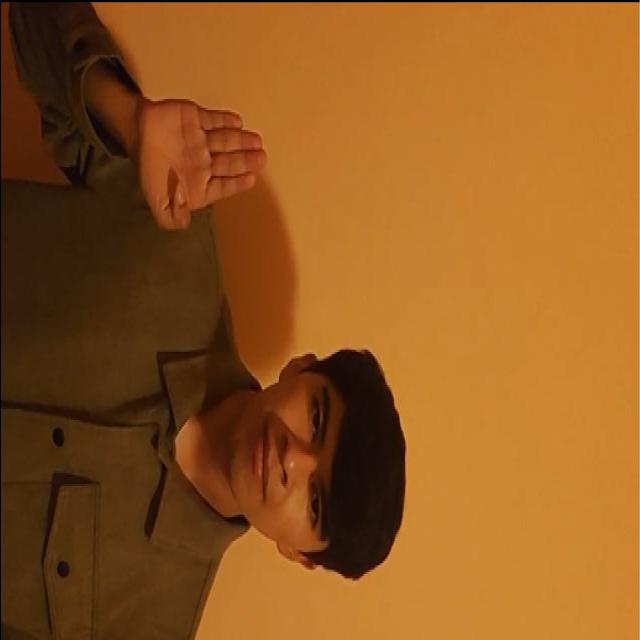B: (130, 79, 283, 248)
